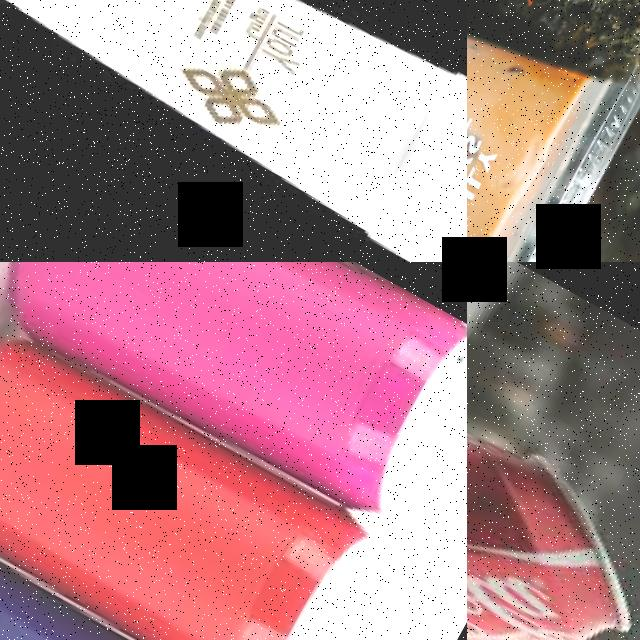can: (0, 307, 407, 640), (0, 262, 467, 546), (467, 262, 640, 640), (0, 488, 307, 640)
cup: (0, 0, 467, 262), (467, 0, 640, 262)
